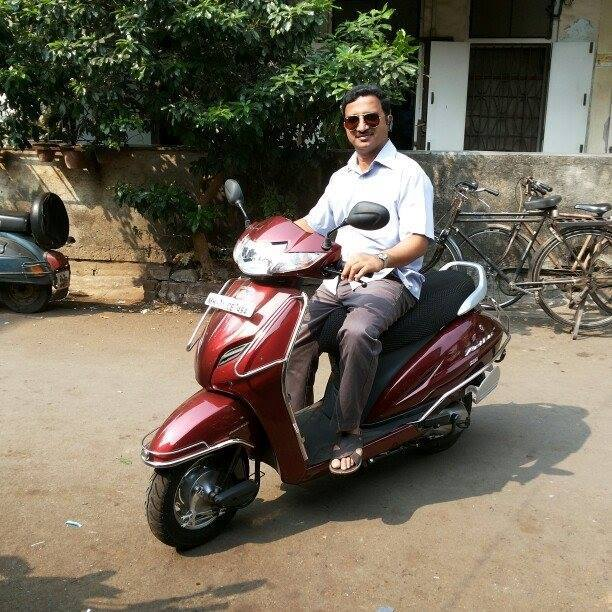Bike: (123, 207, 515, 483)
